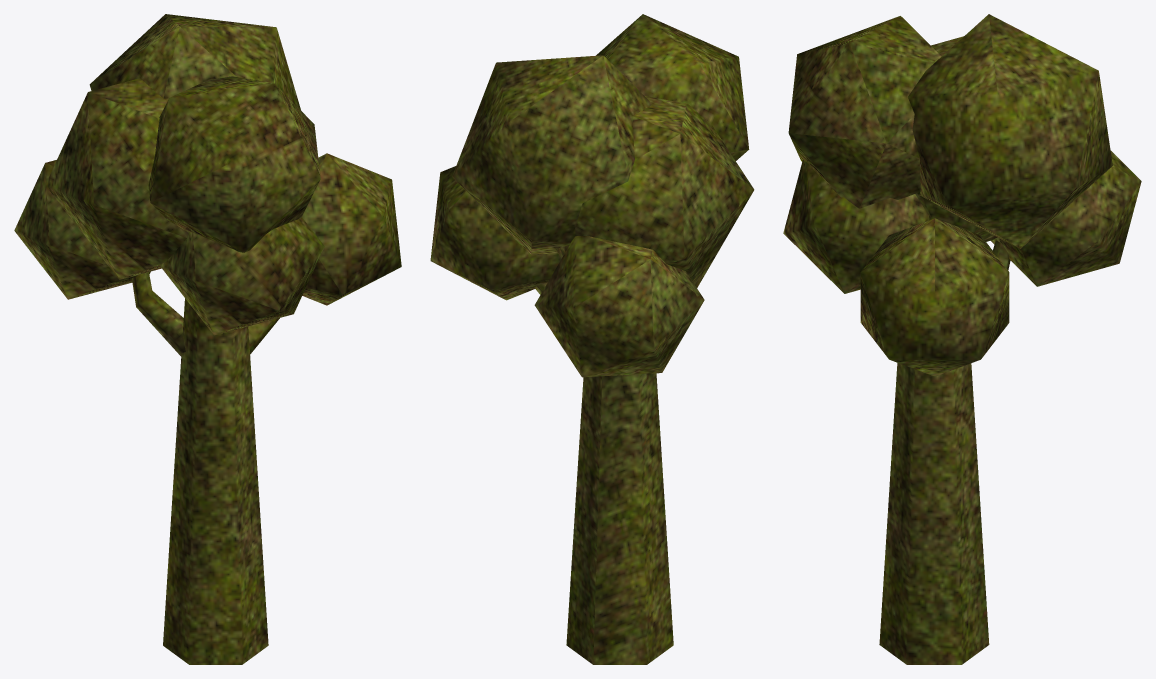
File: SM_Tree_1.fbx
3 views of the same model, side by side, from view 1: azimuth 30°, elevation 25°; view 2: azimuth 150°, elevation 25°; view 3: azimuth 270°, elevation 25° (orthographic). The views are drawn at different scales.
Parts seen in each view (by area): view 1: SM_Tree_1; view 2: SM_Tree_1; view 3: SM_Tree_1.
Part boxes in pixels (x1=…): SM_Tree_1: x1=14, y1=14, x2=401, y2=664; SM_Tree_1: x1=430, y1=14, x2=754, y2=664; SM_Tree_1: x1=783, y1=14, x2=1141, y2=664.
Bounding box in the file's own units: 417 × 790 × 410.
